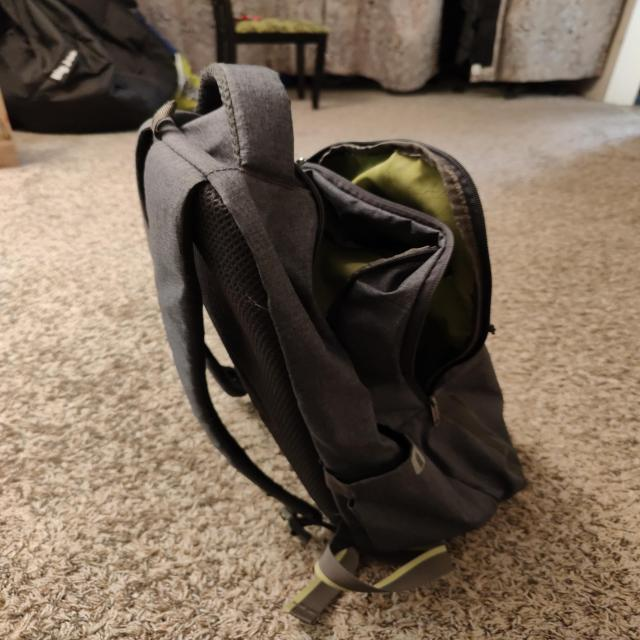bag: (139, 63, 525, 549)
